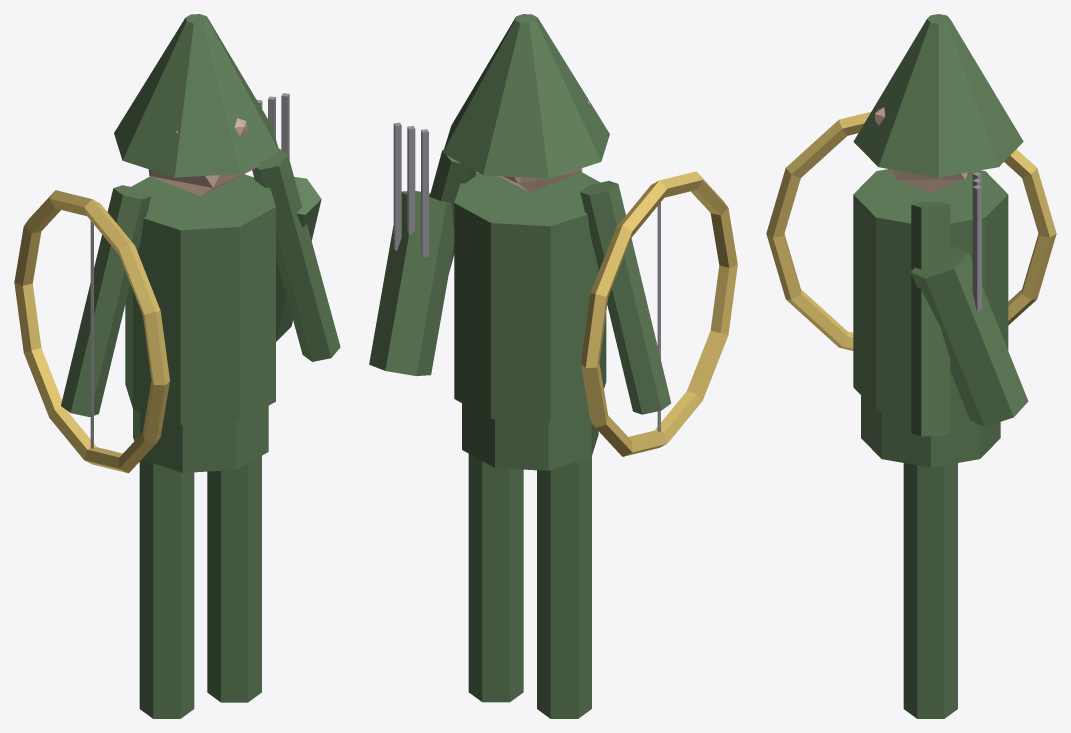
The model's file is archer.glb.
3 renders of one model, left to right at view 1: azimuth 30°, elevation 25°; view 2: azimuth 150°, elevation 25°; view 3: azimuth 270°, elevation 25°, orthographic.
Parts seen in each view (by area): view 1: torso, hood, leg_l, leg_r, bow, arm_l, arm_r, hips, quiver, head, bow_string, arrow_2; view 2: torso, hood, leg_l, leg_r, bow, quiver, arm_l, hips, arm_r, arrow_2, arrow_0, arrow_1 (+2 smaller); view 3: torso, hood, leg_r, quiver, bow, arm_r, hips, arrow_2, head.
Boxes of the visible parts, x1=… form: torso: x1=125, y1=174, x2=275, y2=424; hood: x1=114, y1=14, x2=279, y2=177; leg_l: x1=139, y1=459, x2=194, y2=718; leg_r: x1=207, y1=456, x2=261, y2=702; bow: x1=14, y1=190, x2=169, y2=473; arm_l: x1=61, y1=185, x2=151, y2=416; arm_r: x1=252, y1=148, x2=340, y2=361; hips: x1=133, y1=406, x2=268, y2=472; quiver: x1=276, y1=177, x2=321, y2=341; head: x1=148, y1=118, x2=259, y2=196; bow_string: x1=90, y1=221, x2=93, y2=448; arrow_2: x1=281, y1=93, x2=289, y2=159; torso: x1=454, y1=172, x2=606, y2=422; hood: x1=443, y1=14, x2=609, y2=178; leg_l: x1=537, y1=456, x2=591, y2=718; leg_r: x1=468, y1=454, x2=523, y2=702; bow: x1=581, y1=171, x2=737, y2=456; quiver: x1=369, y1=191, x2=454, y2=376; arm_l: x1=580, y1=181, x2=671, y2=414; hips: x1=462, y1=403, x2=598, y2=470; arm_r: x1=429, y1=149, x2=476, y2=272; arrow_2: x1=393, y1=122, x2=401, y2=250; arrow_0: x1=421, y1=129, x2=428, y2=257; arrow_1: x1=407, y1=126, x2=415, y2=235; torso: x1=853, y1=169, x2=1008, y2=416; hood: x1=853, y1=14, x2=1023, y2=177; leg_r: x1=903, y1=463, x2=957, y2=718; quiver: x1=910, y1=246, x2=1028, y2=426; bow: x1=766, y1=112, x2=1056, y2=350; arm_r: x1=911, y1=202, x2=950, y2=436; hips: x1=861, y1=395, x2=1000, y2=467; arrow_2: x1=972, y1=185, x2=981, y2=311; head: x1=875, y1=107, x2=970, y2=192.
Bounding box in the file's own units: 0.7989 × 1.92 × 0.75.
